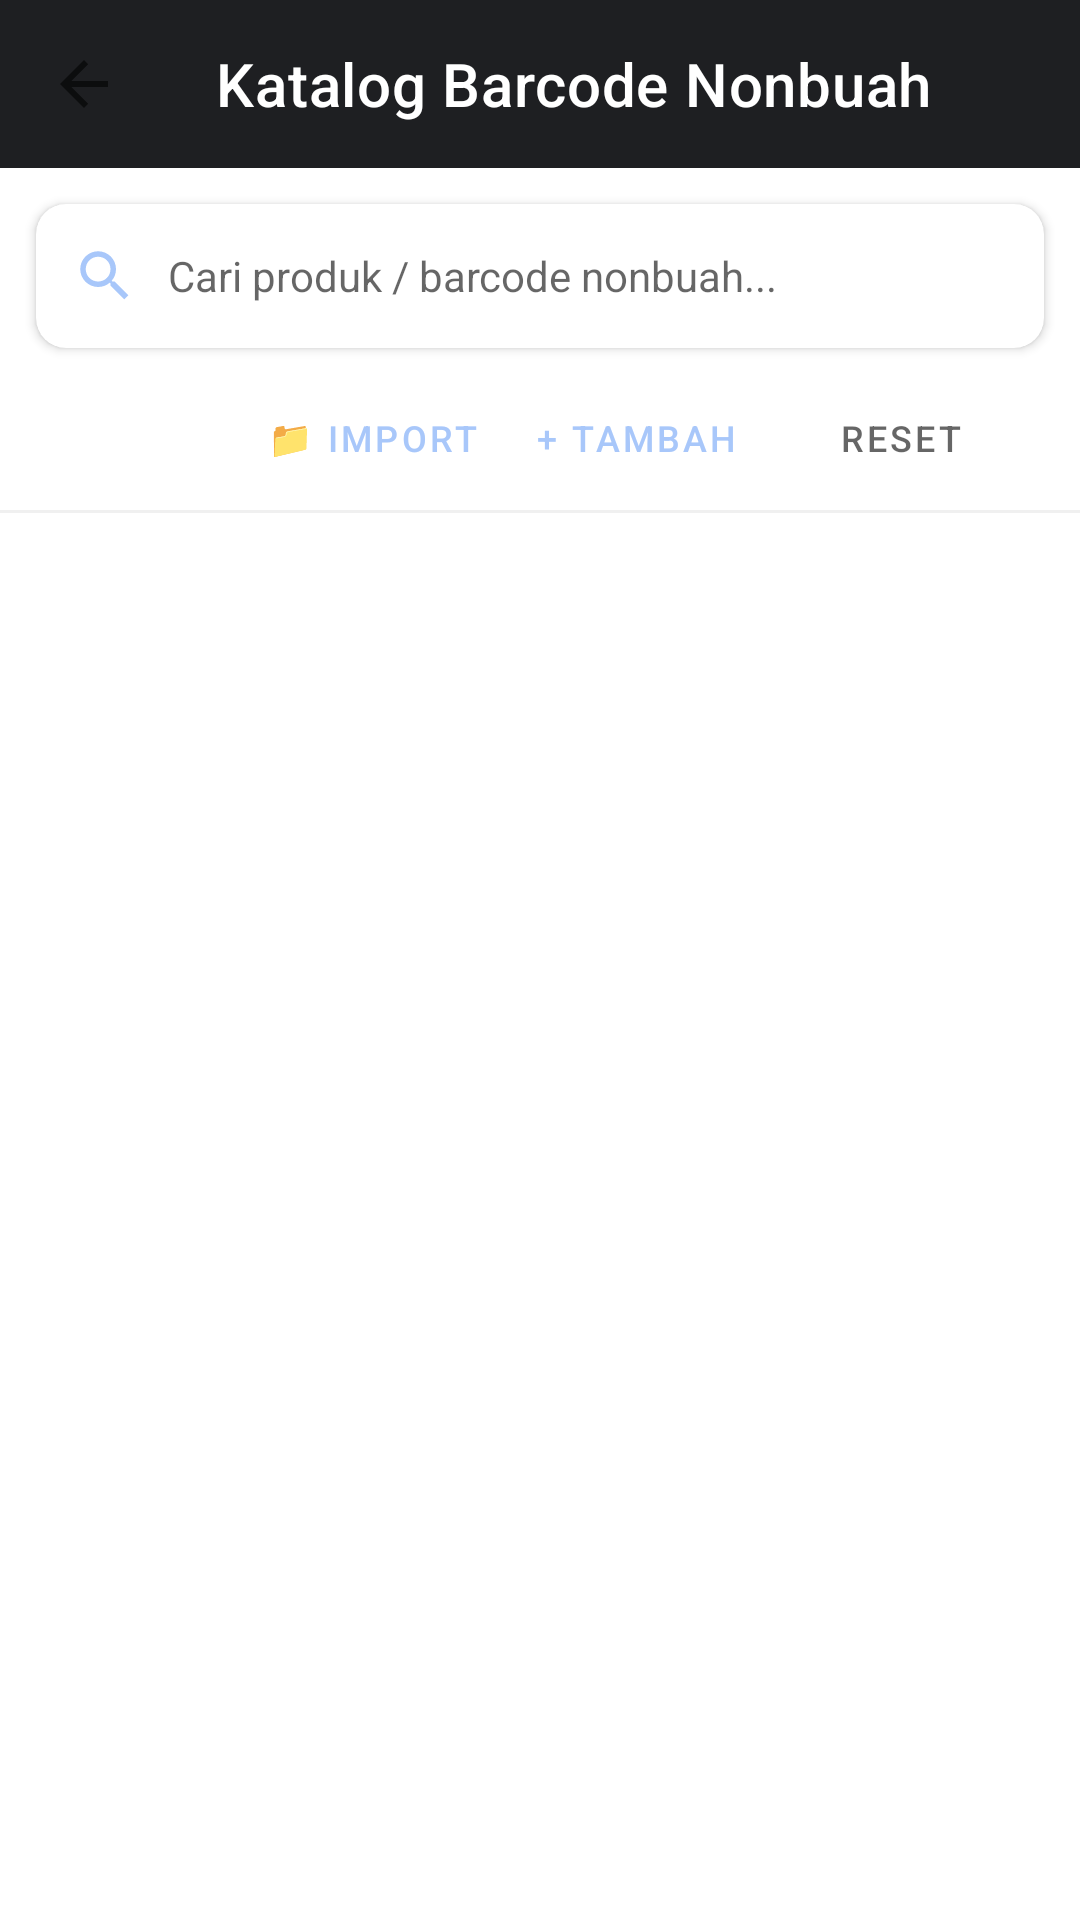

Screen size 1080px×1920px. Icon name, then its center in pixels as [x,y]:
search: [104,275]
